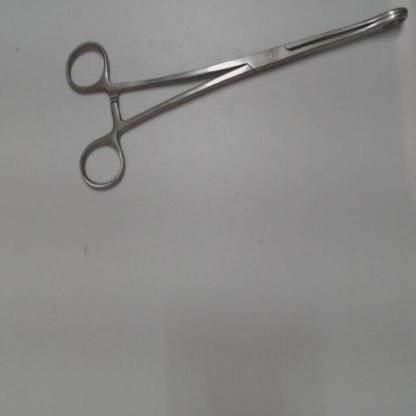Sponge Forceps: (59, 2, 412, 198)
